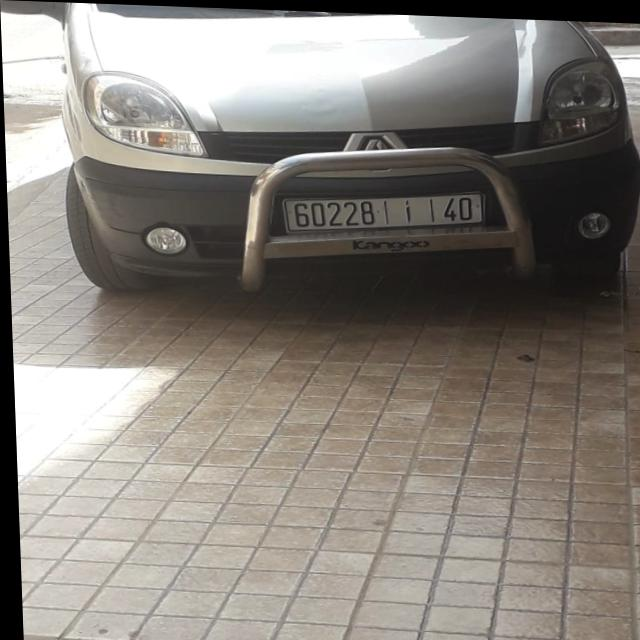License-Plate: (282, 189, 483, 229)
